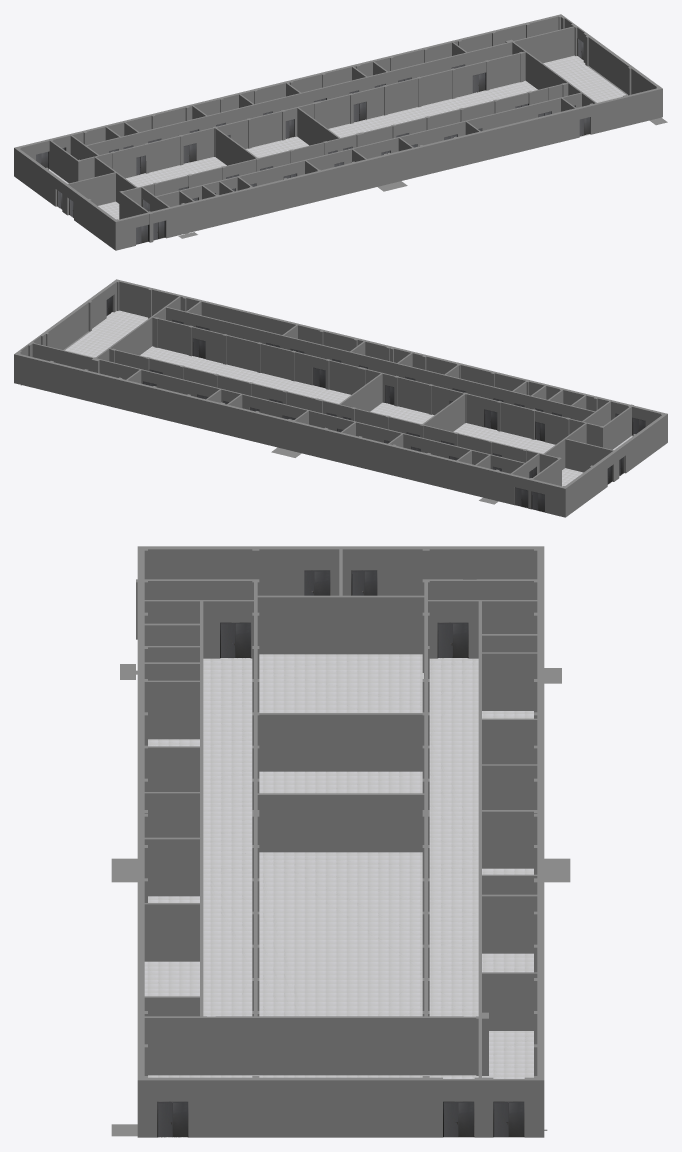
Rendered from Room7Cby.obj.
3 views of the same model, one above another, from view 1: azimuth 30°, elevation 25°; view 2: azimuth 150°, elevation 25°; view 3: azimuth 270°, elevation 25° (orthographic). The views are drawn at different scales.
Parts seen in each view (by area): view 1: Room7, Room7Door; view 2: Room7, Room7Door; view 3: Room7, Room7Door.
Part boxes in pixels (x1=…): Room7: x1=14, y1=14, x2=667, y2=250; Room7Door: x1=36, y1=38, x2=589, y2=244; Room7: x1=14, y1=279, x2=667, y2=517; Room7Door: x1=106, y1=296, x2=645, y2=512; Room7: x1=111, y1=546, x2=570, y2=1137; Room7Door: x1=157, y1=570, x2=524, y2=1137.
Size of the model in its own units: 72.4 by 3.62 by 26.29.
